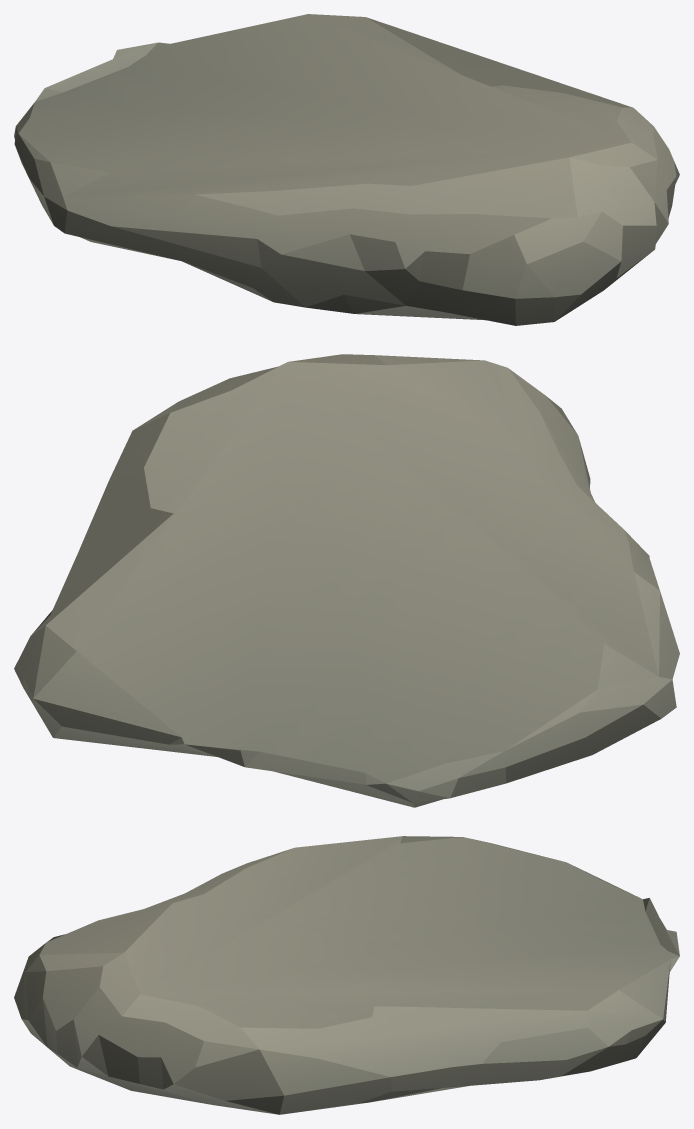
Rendered from rock_2_05.fbx.
3 renders of one model, top to bottom at view 1: azimuth 30°, elevation 25°; view 2: azimuth 150°, elevation 25°; view 3: azimuth 270°, elevation 25°, orthographic. The views are drawn at different scales.
Parts seen in each view (by area): view 1: rock_2_05; view 2: rock_2_05; view 3: rock_2_05.
Boxes of the visible parts, <box> form: rock_2_05: <box>14,14,679,325</box>; rock_2_05: <box>14,354,679,807</box>; rock_2_05: <box>14,836,679,1114</box>.
Size of the model in its own units: 68.08 by 18.4 by 79.04.
